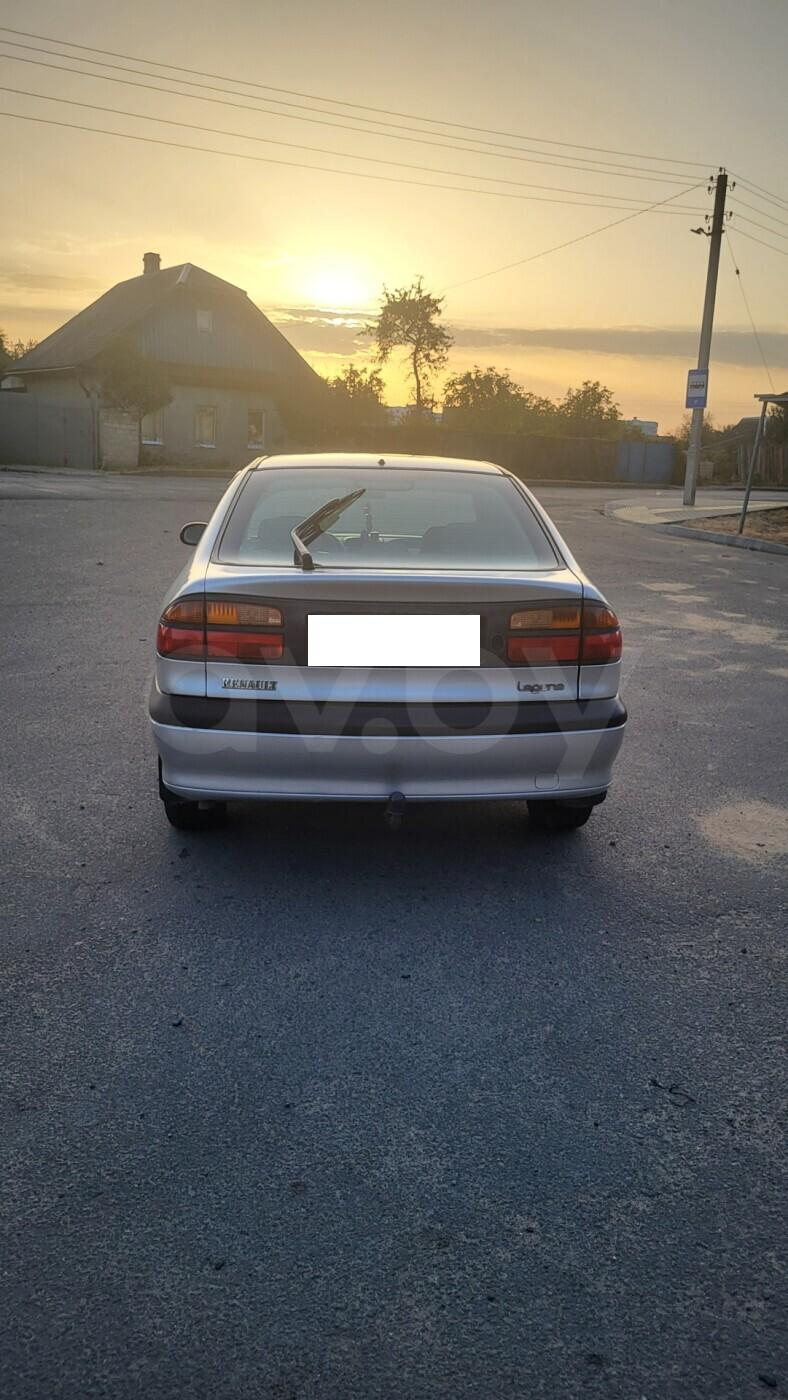Laguna_1998-2001: (148, 444, 632, 884)
